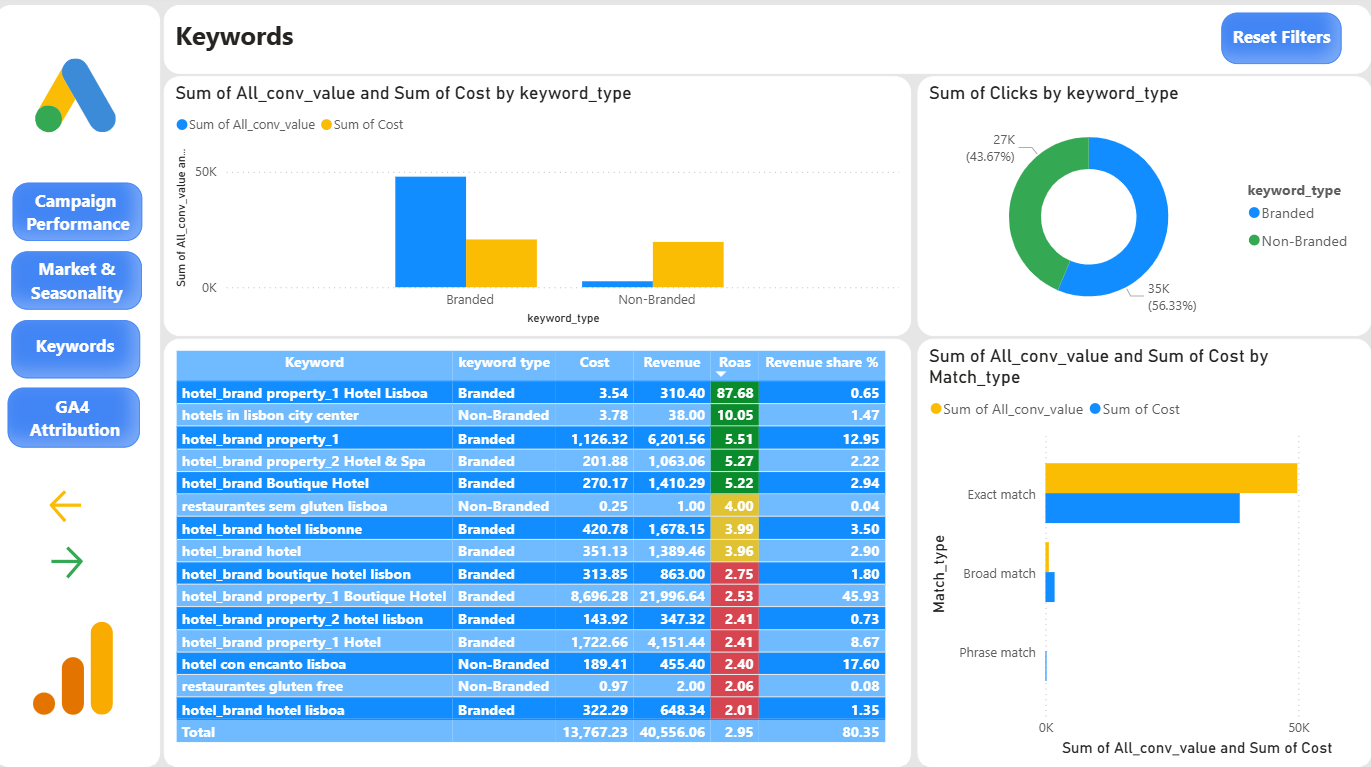

The dashboard page shown, as its layout file describes it:
{"tool":"powerbi","page":{"name":"Keywords","canvas":[1280,720],"ordinal":3},"visuals":[{"type":"clusteredColumnChart","title":"What Keywords Work best?","fields":{"Category":["keywords_clean.keyword_type"],"Y":["Sum(keywords_clean.All_conv_value)","Sum(keywords_clean.Cost)"]},"box":[157,75.6,695.4,241.9],"z":0},{"type":"tableEx","fields":{"Values":["keywords_clean.Keyword","keywords_clean.keyword_type","Sum(keywords_clean.Cost)","Sum(keywords_clean.All_conv_value)","Conversion_attribution_analysis.keyword_roas","_Measures.keyword_revenue_share_pct"]},"box":[157,319.8,695.4,400],"z":1000},{"type":"clusteredBarChart","title":"What Keyword Type generates more Revenue?","fields":{"Category":["keywords_clean.Match_type"],"Y":["Sum(keywords_clean.All_conv_value)","Sum(keywords_clean.Cost)"]},"box":[858.1,319.8,422.1,400],"z":2000},{"type":"donutChart","title":"What Keywords generate the most clicks?","fields":{"Y":["Sum(keywords_clean.Clicks)"],"Category":["keywords_clean.keyword_type"]},"box":[857.9,75.6,422.1,241.9],"z":3000},{"type":"textbox","box":[0,9.3,153.5,710.5],"z":4000},{"type":"image","box":[37.2,0,75.6,187.2],"z":5000},{"type":"textbox","box":[157,9.3,1123.3,64],"z":6000},{"type":"textbox","box":[1140.7,16.3,111.6,47.7],"z":7000},{"type":"textbox","box":[1146.5,22.1,112.8,43],"z":8000},{"type":"textbox","box":[11.6,365.1,123.3,55.8],"z":9000},{"type":"textbox","box":[1.2,366.3,146.5,55.8],"z":10000},{"type":"textbox","box":[15.1,302.3,119.8,54.7],"z":11000},{"type":"textbox","box":[22.1,309.3,104.7,41.9],"z":12000},{"type":"textbox","box":[14.9,238.2,121.8,54.1],"z":13000},{"type":"textbox","box":[18.9,238.2,115,67.7],"z":14000},{"type":"textbox","box":[16.3,174.4,120.9,54.7],"z":15000},{"type":"textbox","box":[16.3,174.4,122.1,79.1],"z":16000},{"type":"image","box":[34.9,566.3,75.6,119.8],"z":17000},{"type":"actionButton","box":[46.5,455.8,100,39.5],"z":18000},{"type":"actionButton","box":[46.5,508.1,100,39.5],"z":19000}]}

Visuals, with their boxes in screenshot pixels (x1, y1, x2, y2), scaled from the page's 1280x720 canvas onto the 1371x767 screenshot:
"What Keywords Work best?" clusteredColumnChart: (left=168, top=81, right=913, bottom=338)
tableEx - keywords_clean.Keyword x keywords_clean.keyword_type: (left=168, top=341, right=913, bottom=766)
"What Keyword Type generates more Revenue?" clusteredBarChart: (left=919, top=341, right=1370, bottom=766)
"What Keywords generate the most clicks?" donutChart: (left=919, top=81, right=1370, bottom=338)
textbox: (left=0, top=10, right=164, bottom=766)
image: (left=40, top=0, right=121, bottom=199)
textbox: (left=168, top=10, right=1370, bottom=78)
textbox: (left=1222, top=17, right=1341, bottom=68)
textbox: (left=1228, top=24, right=1349, bottom=69)
textbox: (left=12, top=389, right=144, bottom=448)
textbox: (left=1, top=390, right=158, bottom=450)
textbox: (left=16, top=322, right=144, bottom=380)
textbox: (left=24, top=329, right=136, bottom=374)
textbox: (left=16, top=254, right=146, bottom=311)
textbox: (left=20, top=254, right=143, bottom=326)
textbox: (left=17, top=186, right=147, bottom=244)
textbox: (left=17, top=186, right=148, bottom=270)
image: (left=37, top=603, right=118, bottom=731)
actionButton: (left=50, top=486, right=157, bottom=528)
actionButton: (left=50, top=541, right=157, bottom=583)
